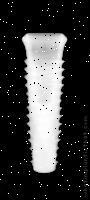Cowellmedi: (22, 33, 67, 175)
